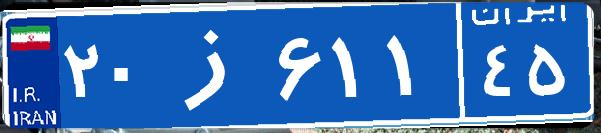0: (110, 28, 158, 105)
1: (385, 28, 445, 110), (330, 28, 385, 110)
2: (57, 26, 110, 107)
4: (475, 38, 525, 113)
5: (525, 38, 570, 115)
6: (273, 28, 330, 110)
ز: (158, 15, 273, 115)
